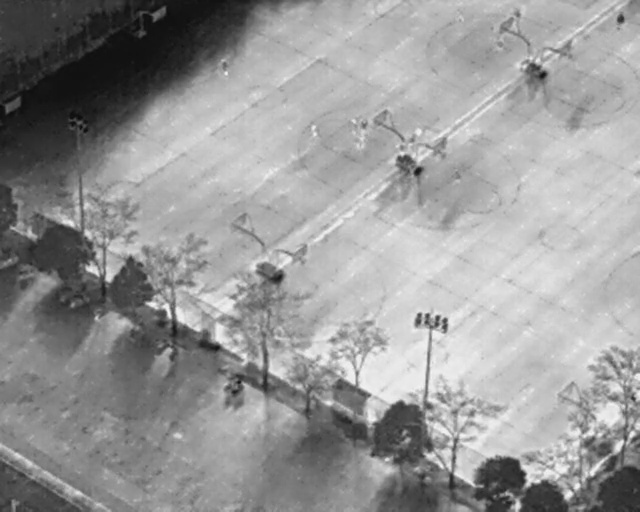Person: (219, 57, 231, 78), (614, 11, 626, 29), (348, 118, 360, 132), (495, 36, 506, 51), (355, 136, 366, 151), (452, 169, 462, 184), (455, 10, 465, 24), (359, 118, 369, 132), (310, 123, 319, 138), (514, 5, 522, 21), (413, 126, 423, 137)
